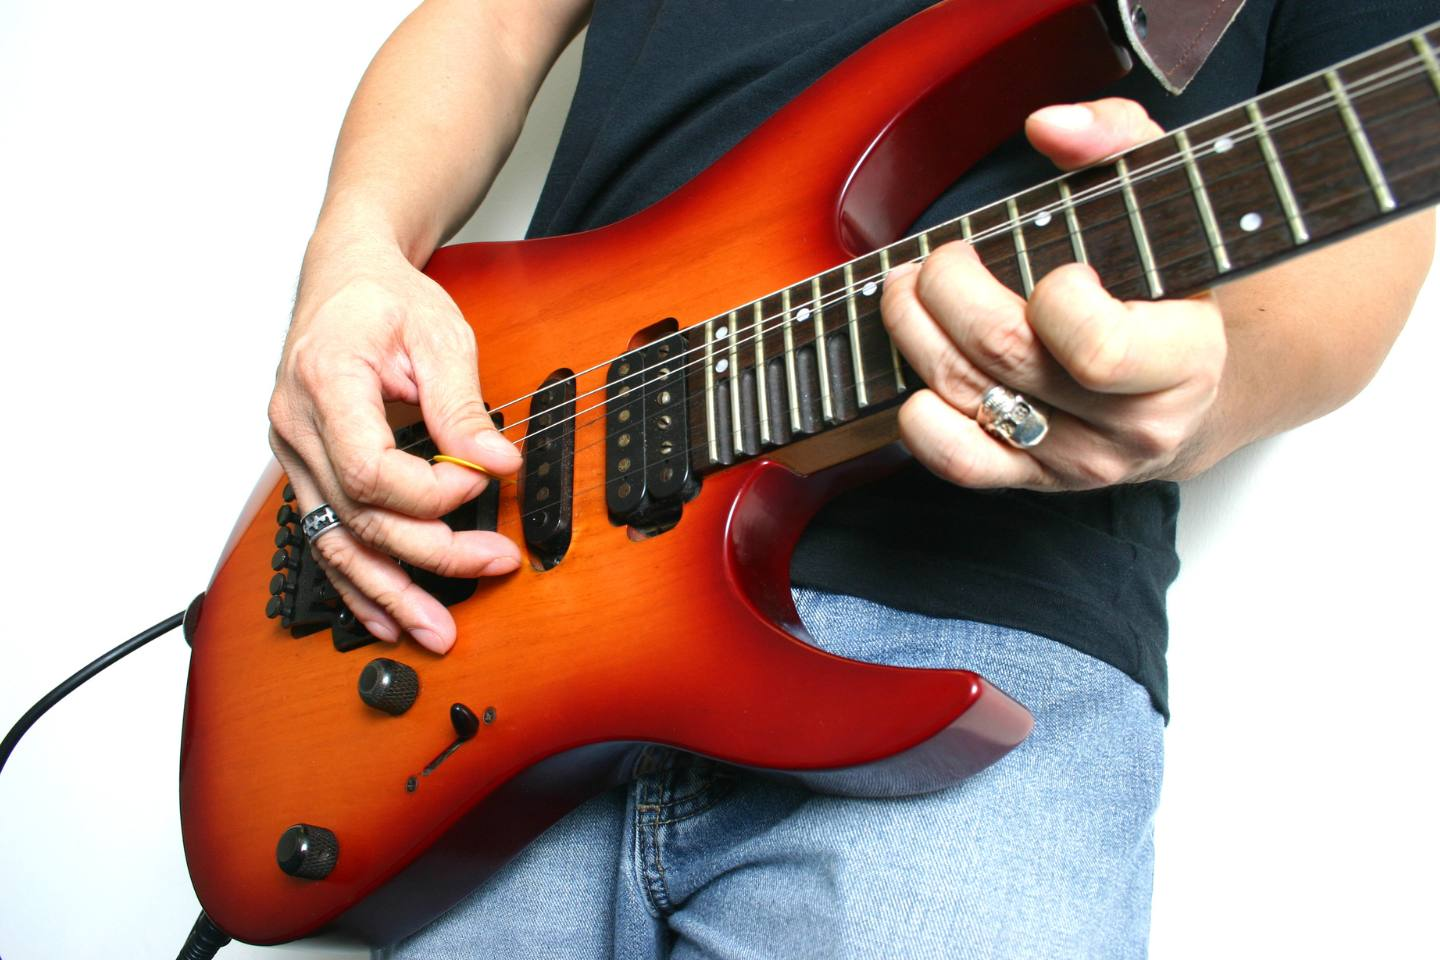guitar: (177, 44, 1440, 953), (223, 6, 1440, 666)
